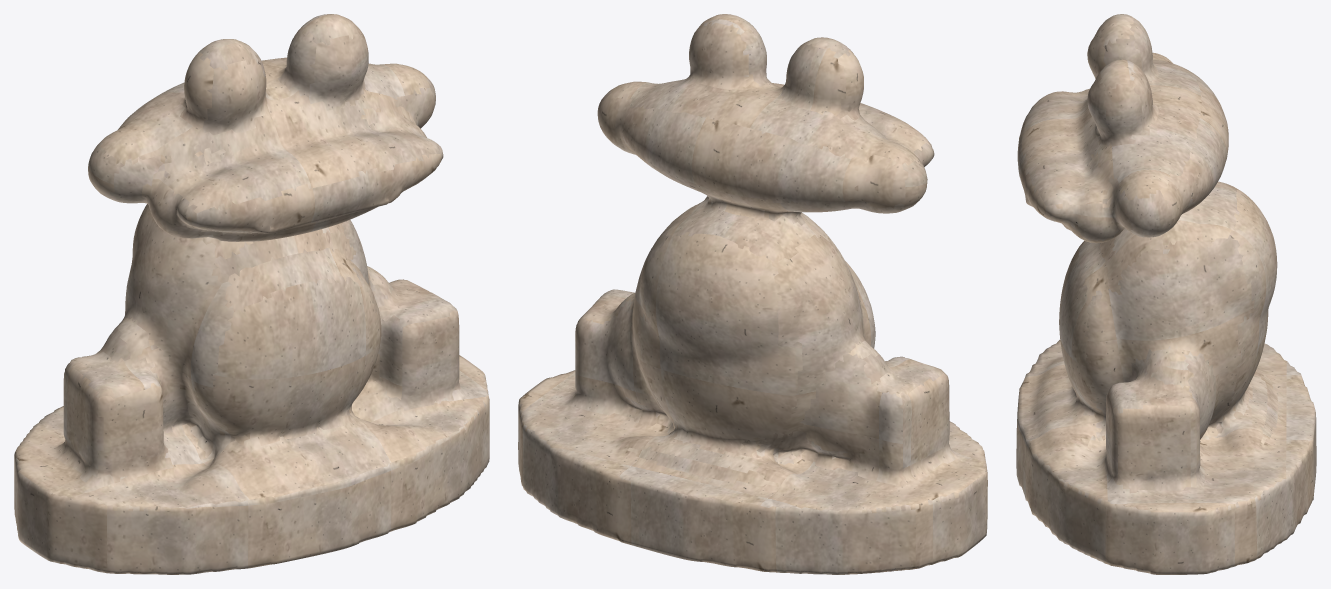
The model's file is Hole_15_Frog.glb.
3 views of the same model, side by side, from view 1: azimuth 30°, elevation 25°; view 2: azimuth 150°, elevation 25°; view 3: azimuth 270°, elevation 25° (orthographic). The views are drawn at different scales.
Visible parts, largest first — view 1: cartoon_frog_statue_smile; view 2: cartoon_frog_statue_smile; view 3: cartoon_frog_statue_smile.
Boxes of the visible parts, <box> form: cartoon_frog_statue_smile: <box>14,14,489,574</box>; cartoon_frog_statue_smile: <box>518,14,987,574</box>; cartoon_frog_statue_smile: <box>1016,14,1316,574</box>.
Bounding box in the file's own units: 1.07 × 1.08 × 0.6724.
1 material, 1 textured.
